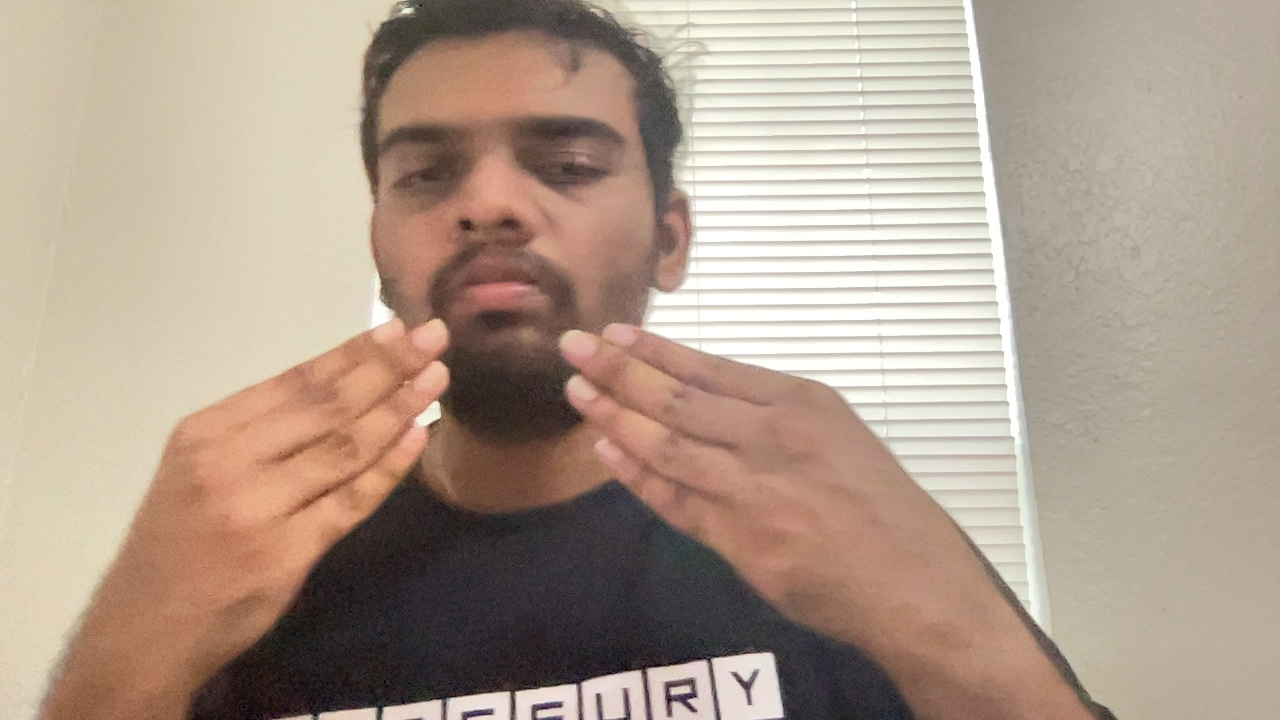thanks: (128, 321, 960, 638)
